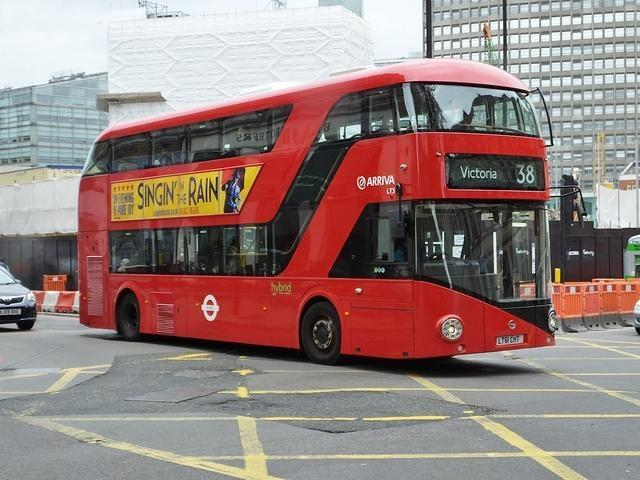bus: (79, 56, 556, 365)
car: (0, 260, 38, 332), (634, 299, 640, 336)
